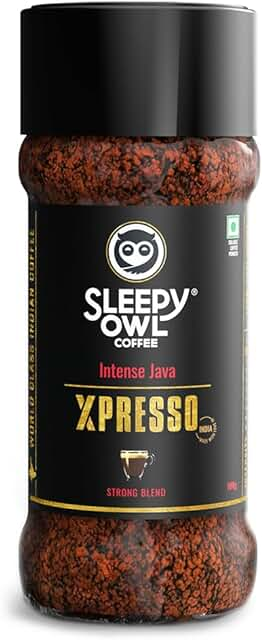Coffee: (20, 4, 257, 624)
